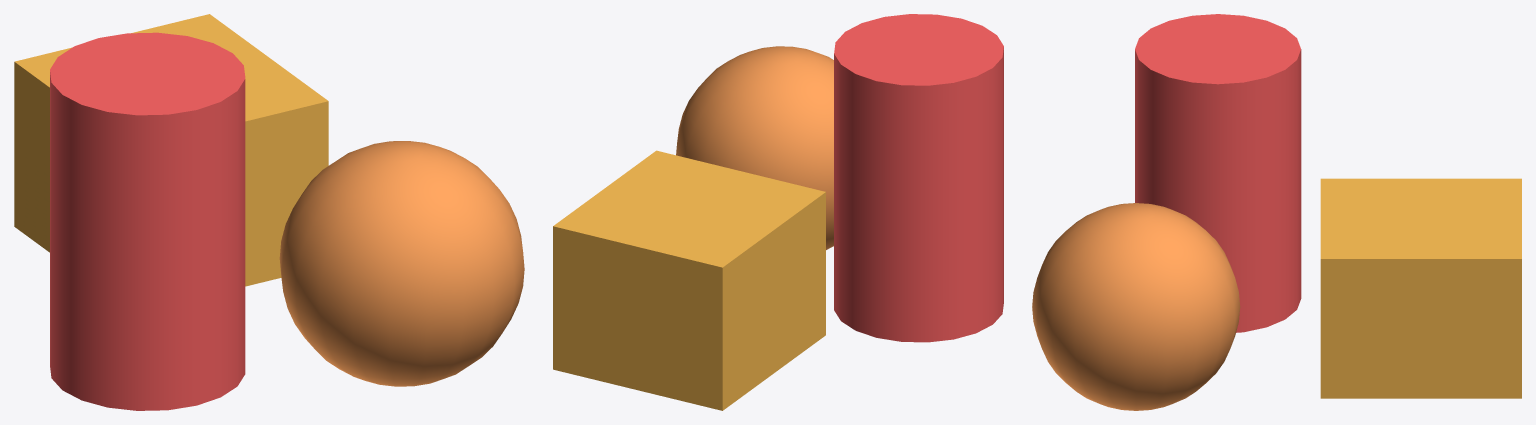
3 renders of one model, left to right at view 1: azimuth 30°, elevation 25°; view 2: azimuth 150°, elevation 25°; view 3: azimuth 270°, elevation 25°, orthographic. The views are drawn at different scales.
Parts seen in each view (by area): view 1: pCylinder1, pSphere1, pCube1; view 2: pCube1, pCylinder1, pSphere1; view 3: pCube1, pCylinder1, pSphere1.
Boxes of the visible parts, bbox=[...] form: pCylinder1: bbox=[50, 32, 245, 410]; pSphere1: bbox=[279, 141, 524, 386]; pCube1: bbox=[14, 14, 328, 286]; pCube1: bbox=[553, 150, 825, 410]; pCylinder1: bbox=[834, 14, 1003, 342]; pSphere1: bbox=[676, 46, 833, 249]; pCube1: bbox=[1320, 178, 1521, 398]; pCylinder1: bbox=[1135, 14, 1301, 332]; pSphere1: bbox=[1032, 203, 1240, 410].
Size of the model in its own units: 11.7 by 8.88 by 14.75.
